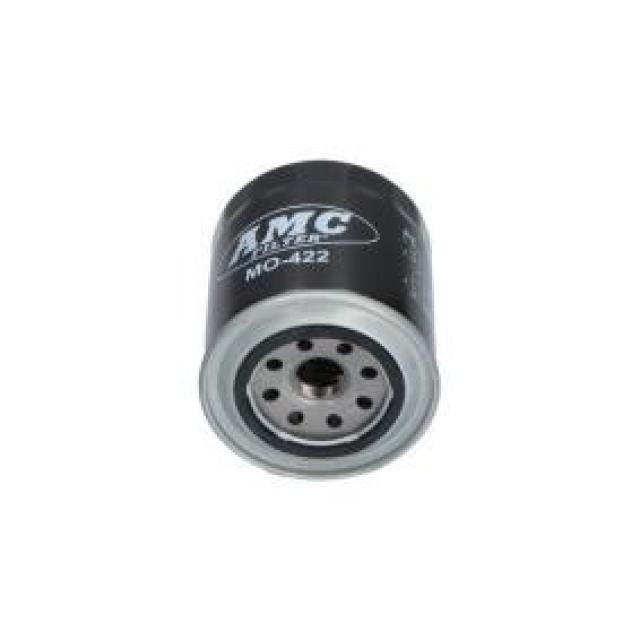oil_filter: (197, 157, 448, 487)
